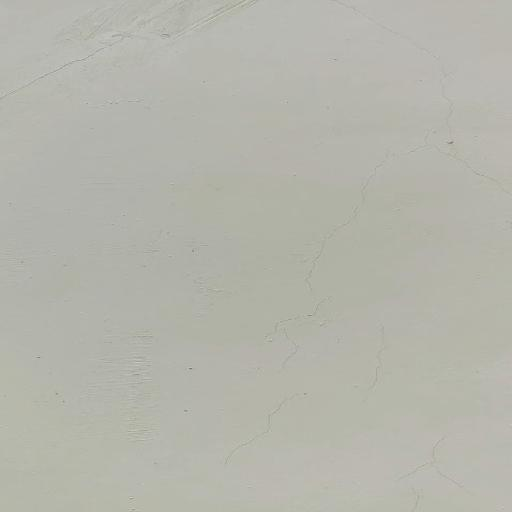employee-detectio-system: (41, 51, 461, 455)
